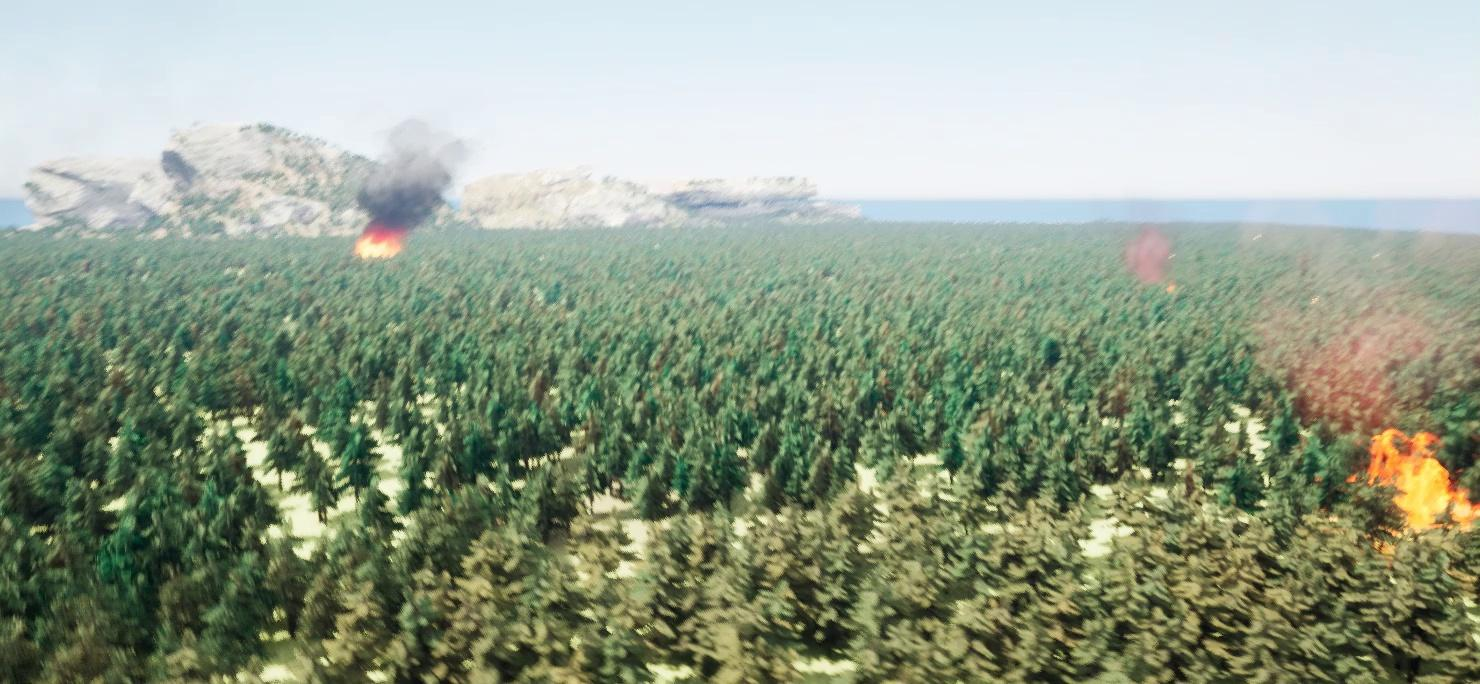fire: (1348, 426, 1478, 550), (353, 232, 401, 262)
smoke: (1244, 189, 1479, 423), (357, 120, 472, 227), (1125, 226, 1187, 294)
